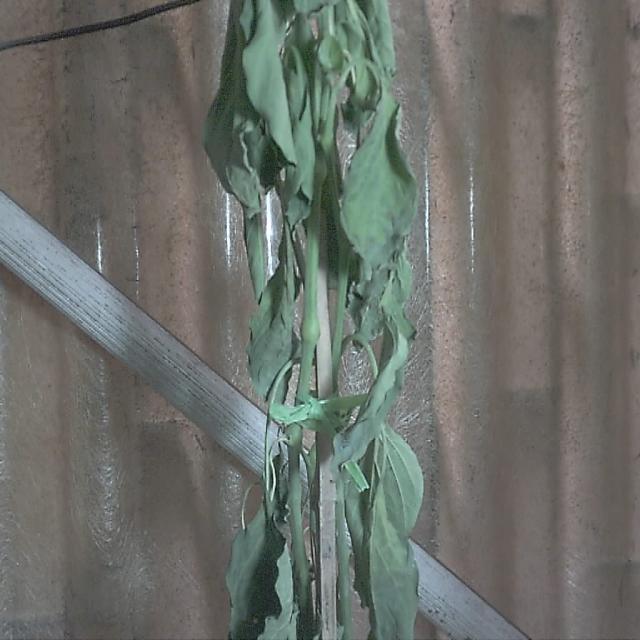Leaf: (341, 422, 424, 633), (339, 88, 417, 267), (336, 318, 407, 468), (238, 2, 300, 169), (226, 508, 295, 640), (246, 246, 296, 412)
